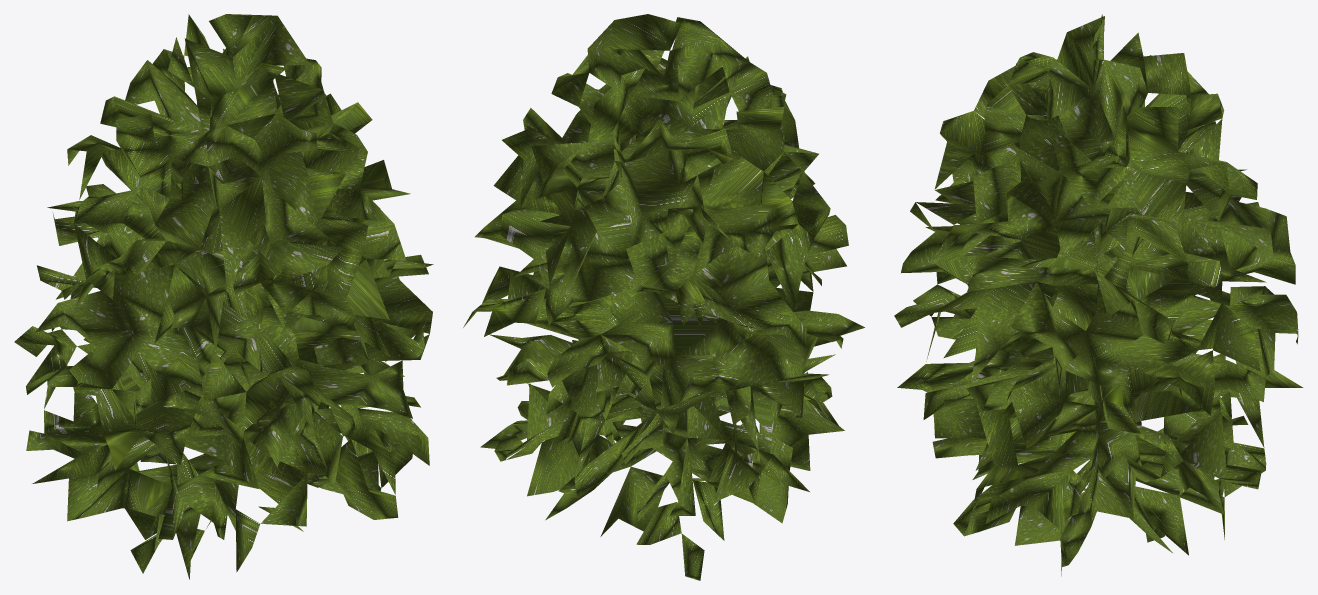
The model's file is birch-lo.glb.
3 views of the same model, side by side, from view 1: azimuth 30°, elevation 25°; view 2: azimuth 150°, elevation 25°; view 3: azimuth 270°, elevation 25° (orthographic). The views are drawn at different scales.
Bounding box in the file's own units: 3.53 × 5.23 × 3.53.
1 material, 1 textured.
